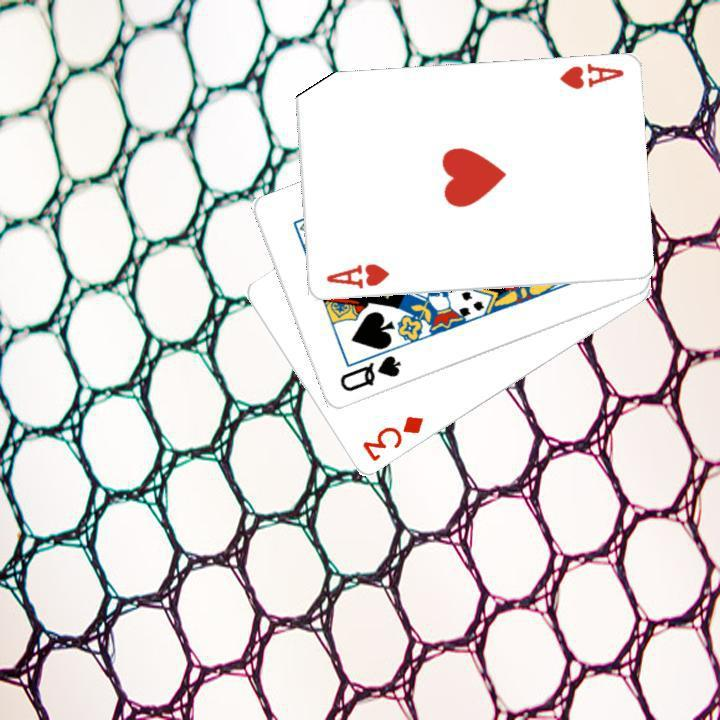3: (357, 412, 426, 465)
A: (555, 59, 625, 92), (322, 260, 391, 291)
Q: (335, 351, 403, 394)
